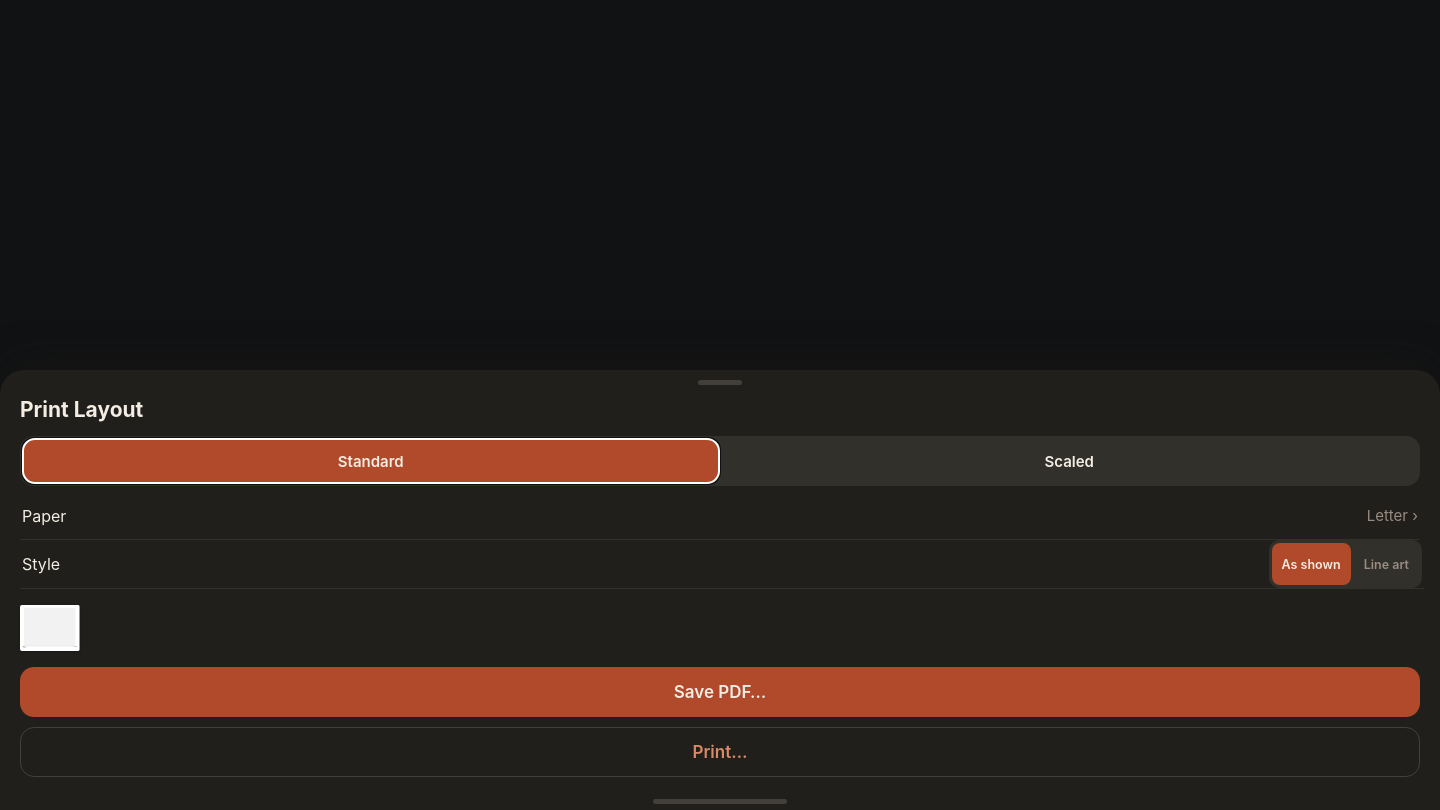
Test: PrintSheet › opening the Paper list and picking A4 updates the row
Click the button "Paper Letter ›": (44,516) top-left (20, 492), bottom-right (1420, 540)
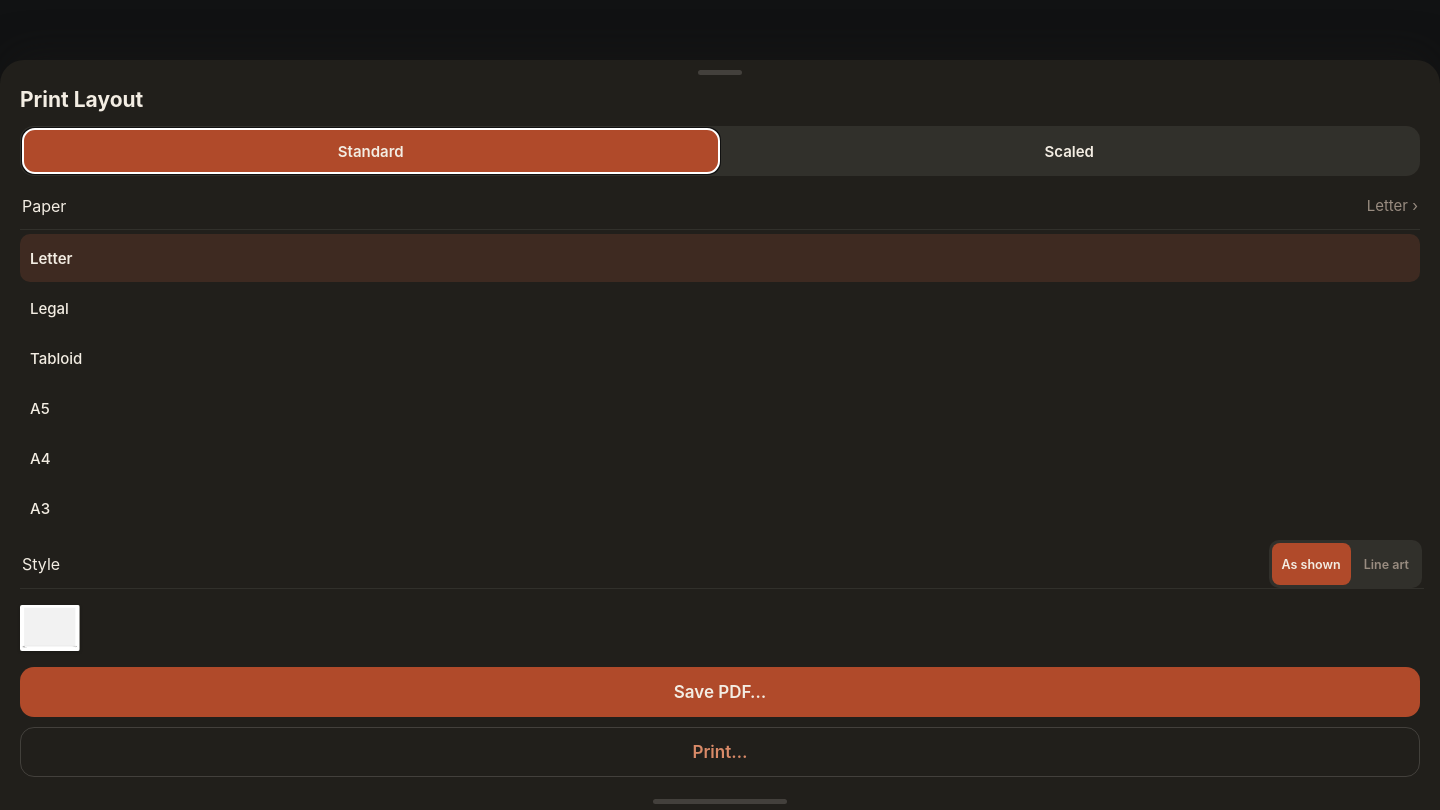
Click the button "A4": (40,458) top-left (20, 434), bottom-right (1420, 482)
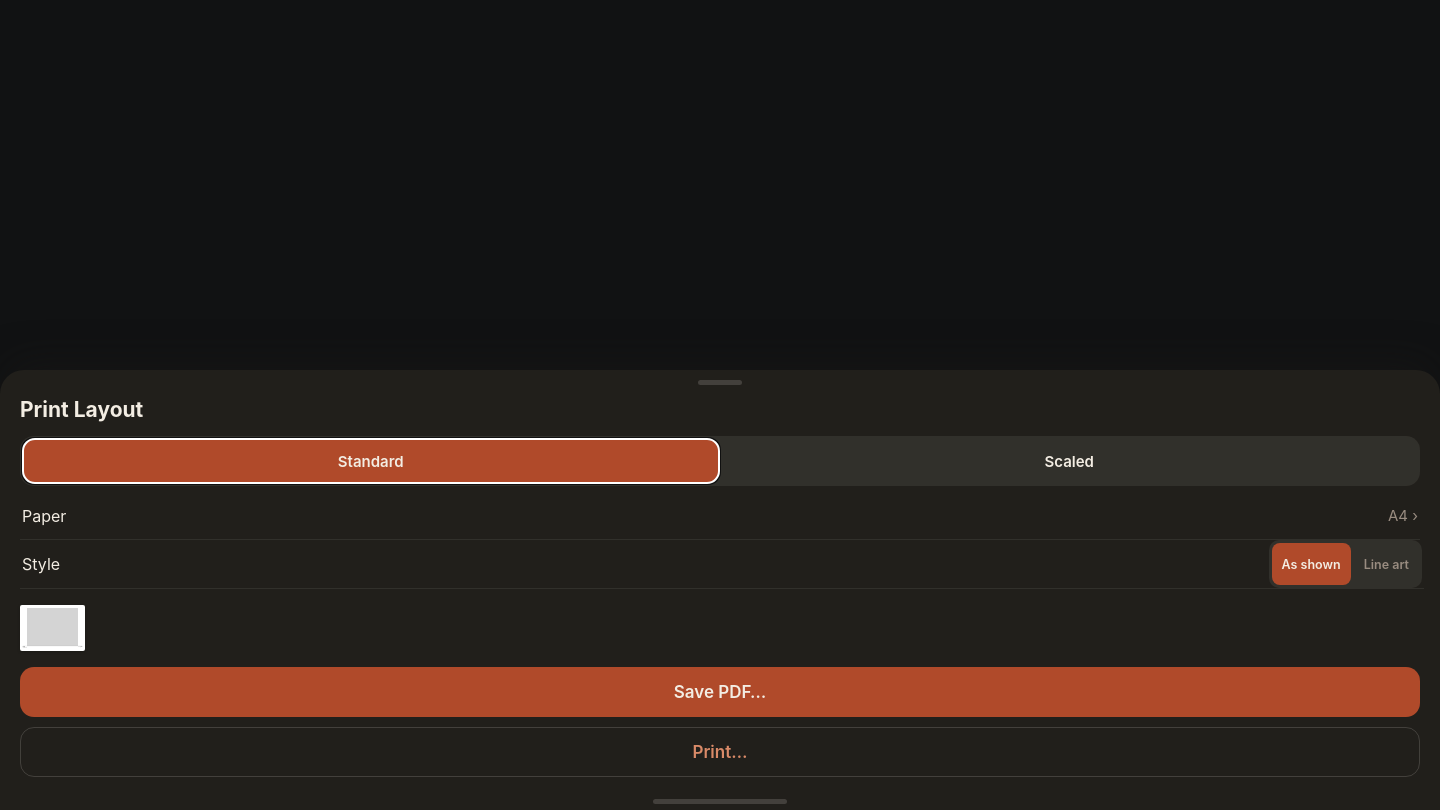
Check: the button "Paper A4 ›" is shown, box top-left (20, 492), bottom-right (1420, 540)
